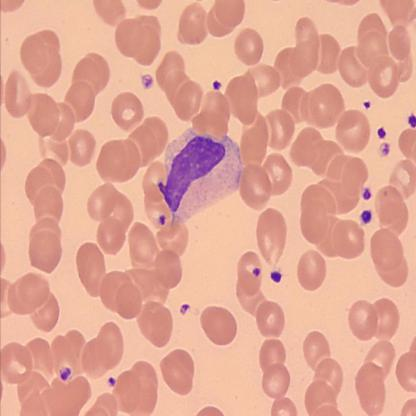Metamyelocyte: (155, 126, 245, 225)
